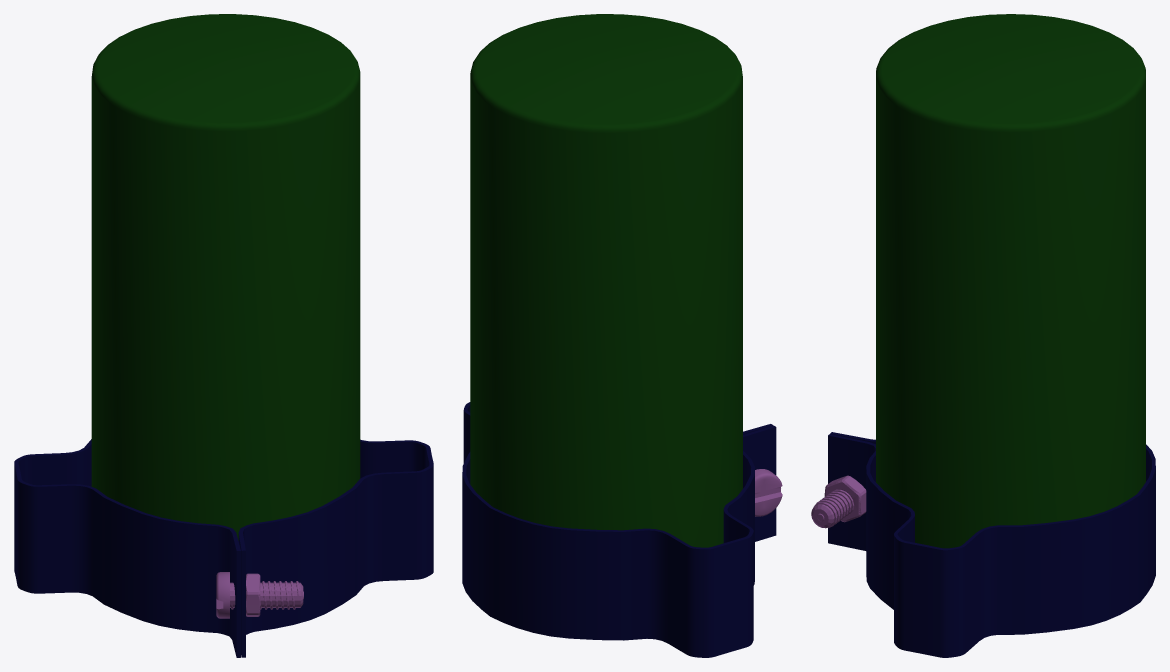
The model's file is bank2.fbx.
The picture shows the model from 3 angles, left to right: view 1: azimuth 30°, elevation 25°; view 2: azimuth 150°, elevation 25°; view 3: azimuth 270°, elevation 25°; orthographic projection.
Visible parts, largest first — view 1: bank2_LOD0; view 2: bank2_LOD0; view 3: bank2_LOD0.
Part boxes in pixels (box(x1,y1,x2,y2)): bank2_LOD0: box(14, 14, 433, 657); bank2_LOD0: box(462, 14, 782, 657); bank2_LOD0: box(811, 14, 1155, 657).
Size of what is drawn, in the model's own units: 2.1 by 2.98 by 1.8.
